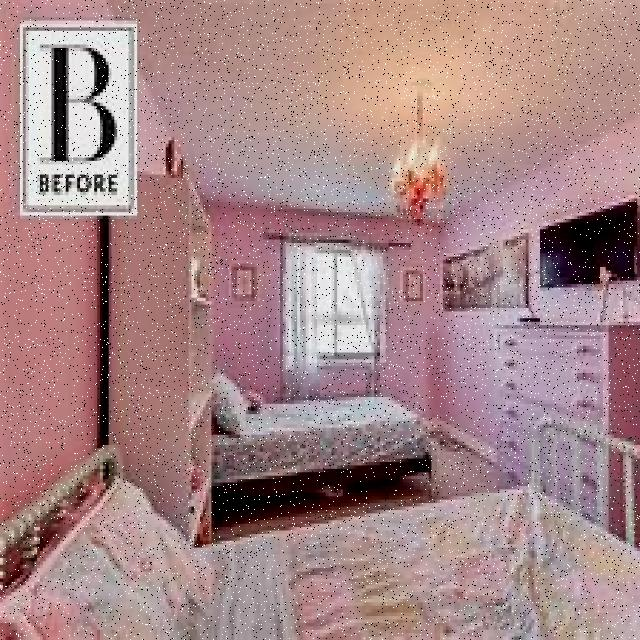bed: (0, 411, 640, 640), (200, 366, 432, 481)
